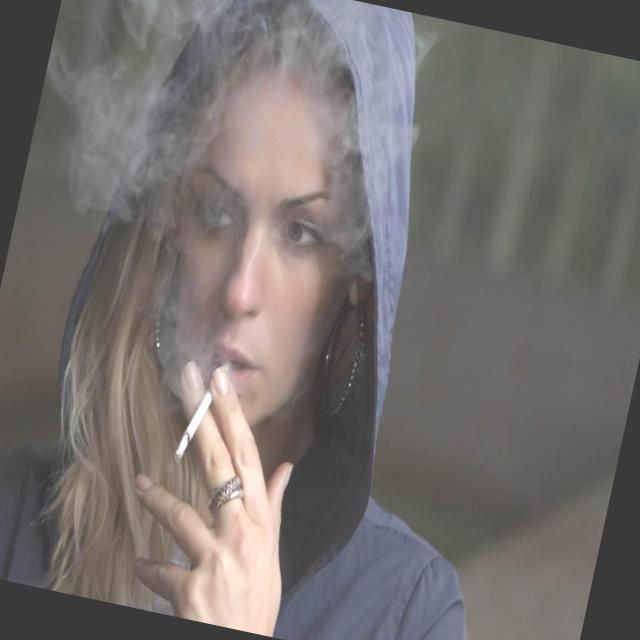smoke: (160, 362, 237, 480)
